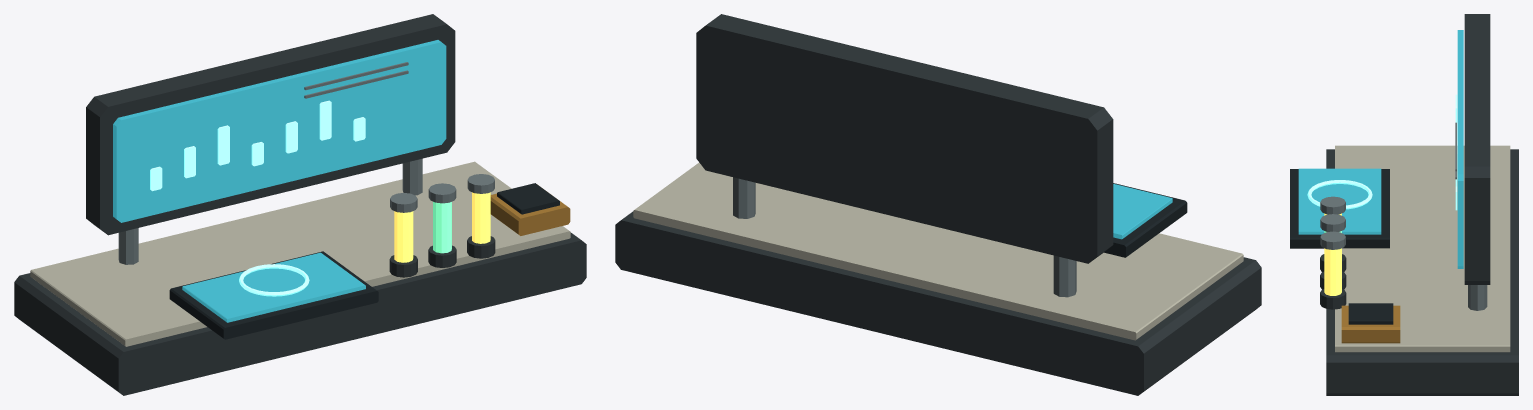
File: research_tabletop_module.glb
3 views of the same model, side by side, from view 1: azimuth 30°, elevation 25°; view 2: azimuth 150°, elevation 25°; view 3: azimuth 270°, elevation 25° (orthographic). The views are drawn at different scales.
Visible parts, largest first — view 1: research_tabletop_module; view 2: research_tabletop_module; view 3: research_tabletop_module.
Boxes of the visible parts, x1,y1,x2,y2 form: research_tabletop_module: (14, 14, 586, 395); research_tabletop_module: (615, 14, 1261, 395); research_tabletop_module: (1290, 14, 1518, 395).
Size of the model in its own units: 1.45 by 0.65 by 0.665.
